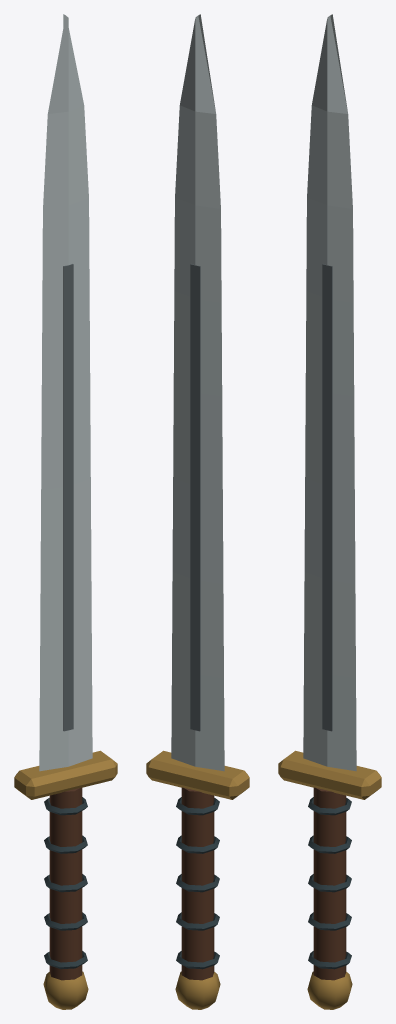
The model's file is sword_old.glb.
3 renders of one model, left to right at view 1: azimuth 30°, elevation 25°; view 2: azimuth 150°, elevation 25°; view 3: azimuth 330°, elevation 25°, orthographic.
Parts seen in each view (by area): view 1: Sword; view 2: Sword; view 3: Sword.
Boxes of the visible parts, x1,y1,x2,y2 form: Sword: (14, 14, 117, 1009); Sword: (146, 14, 249, 1009); Sword: (278, 14, 381, 1009).
Bounding box in the file's own units: 0.1 × 1.03 × 0.044.
